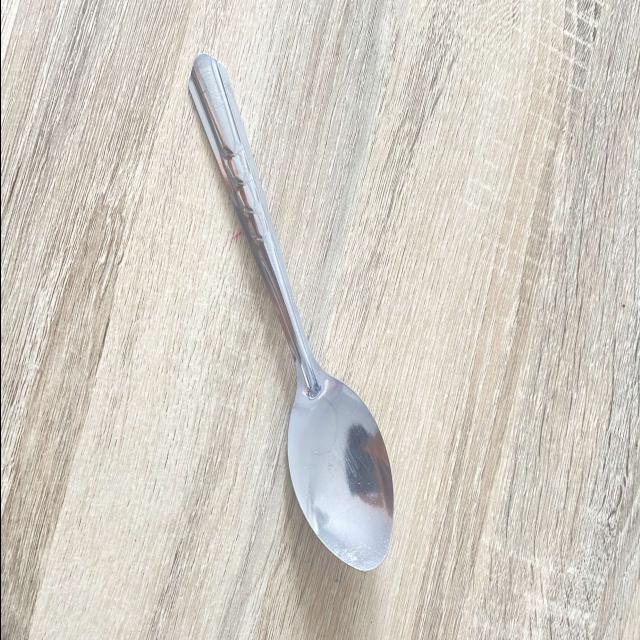spoon: (173, 48, 404, 574)
